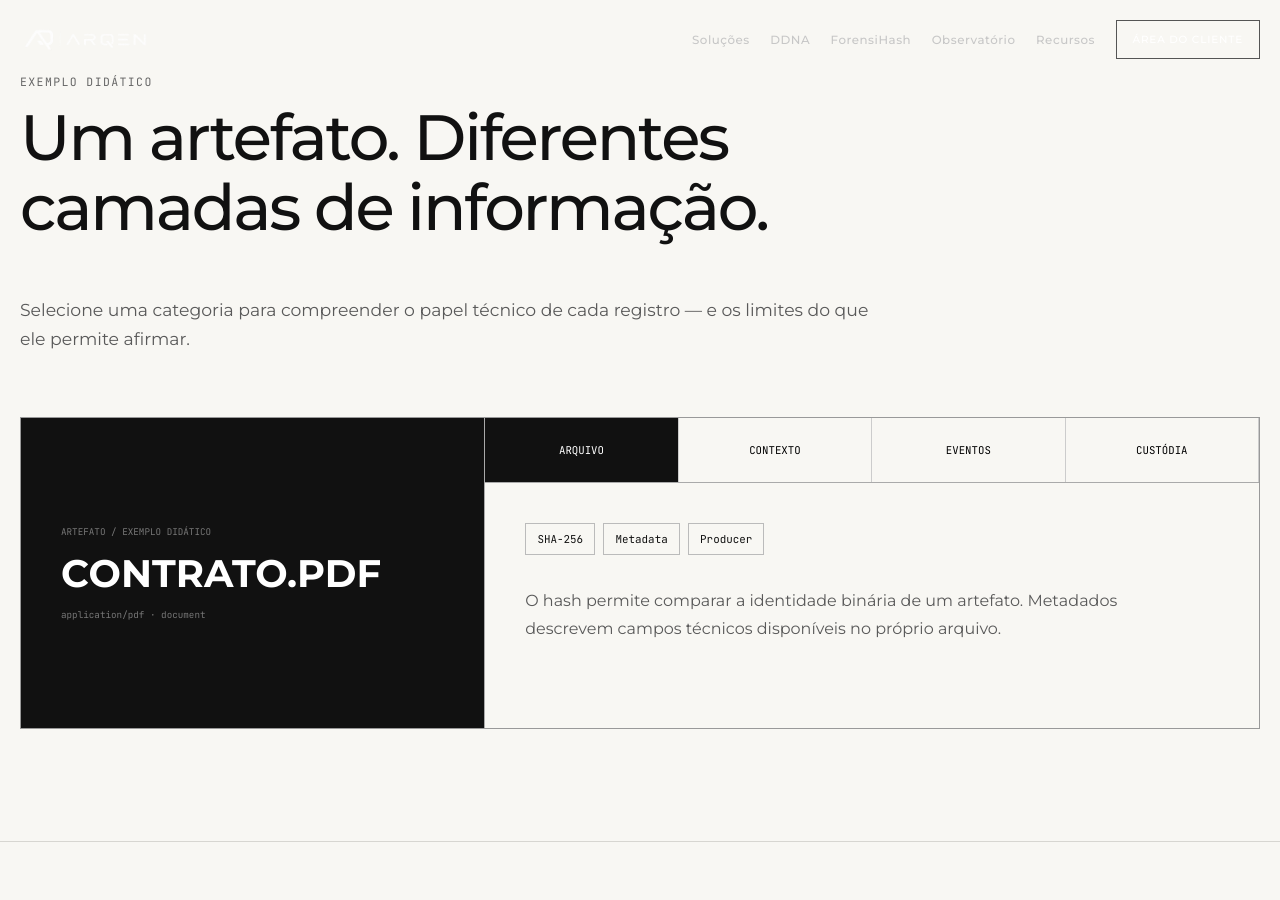
Test case: homepage institucional ARQEN › expõe interações por teclado e explicações com ressalvas
(page scrolled)
Click the tab "Contexto".
click(775, 450)  # box [679,418,872,482]
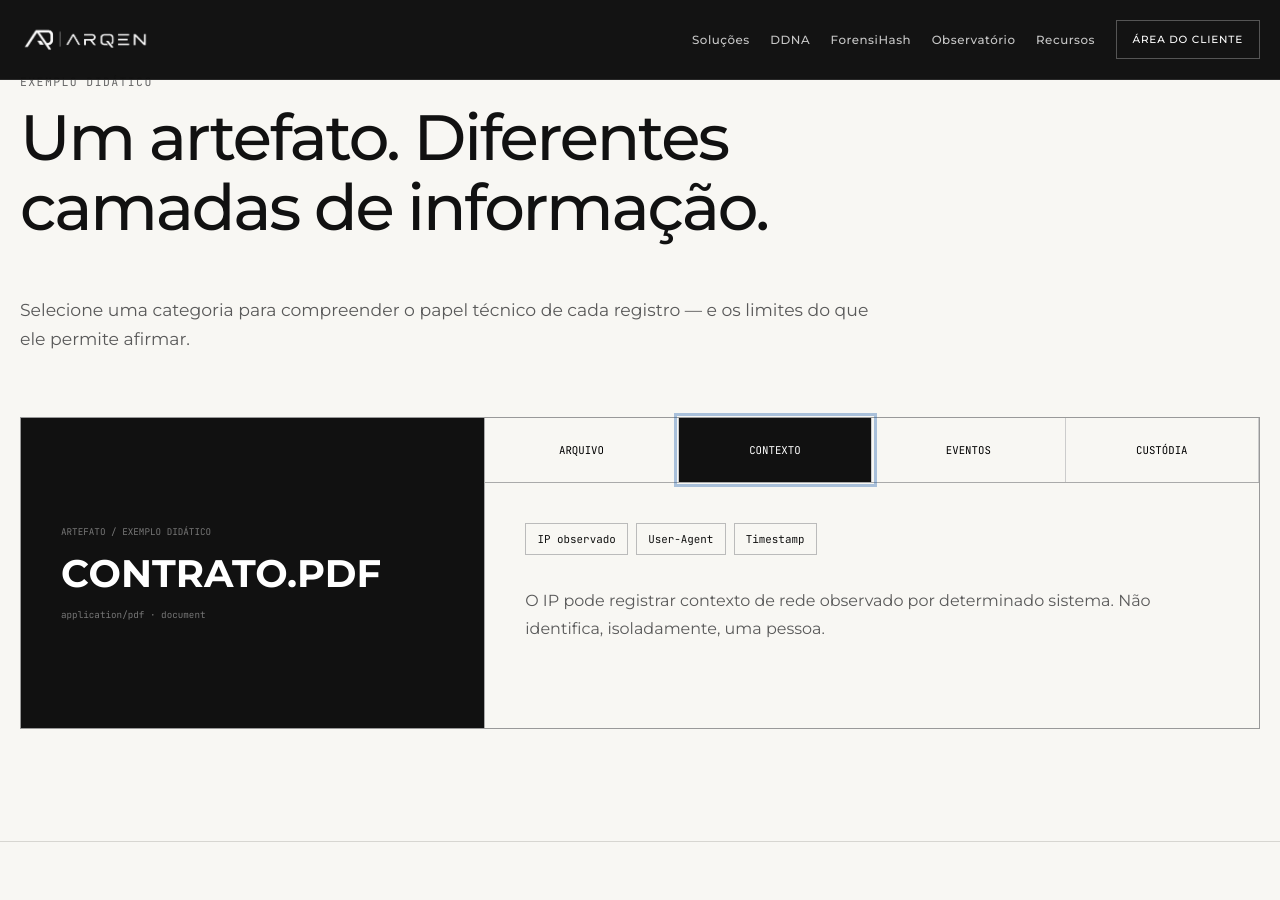
Result: the panel "contexto" shows "não identifica, isoladamente, uma pessoa" at [525,592,1151,638]
